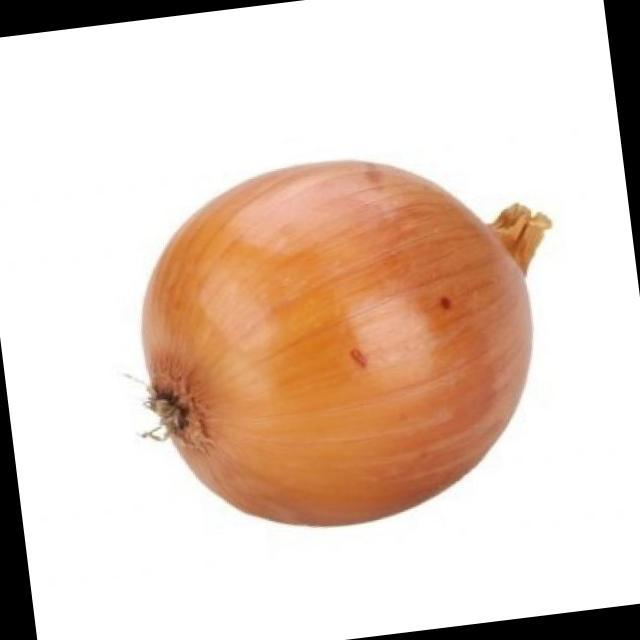Onion: (144, 163, 548, 524)
